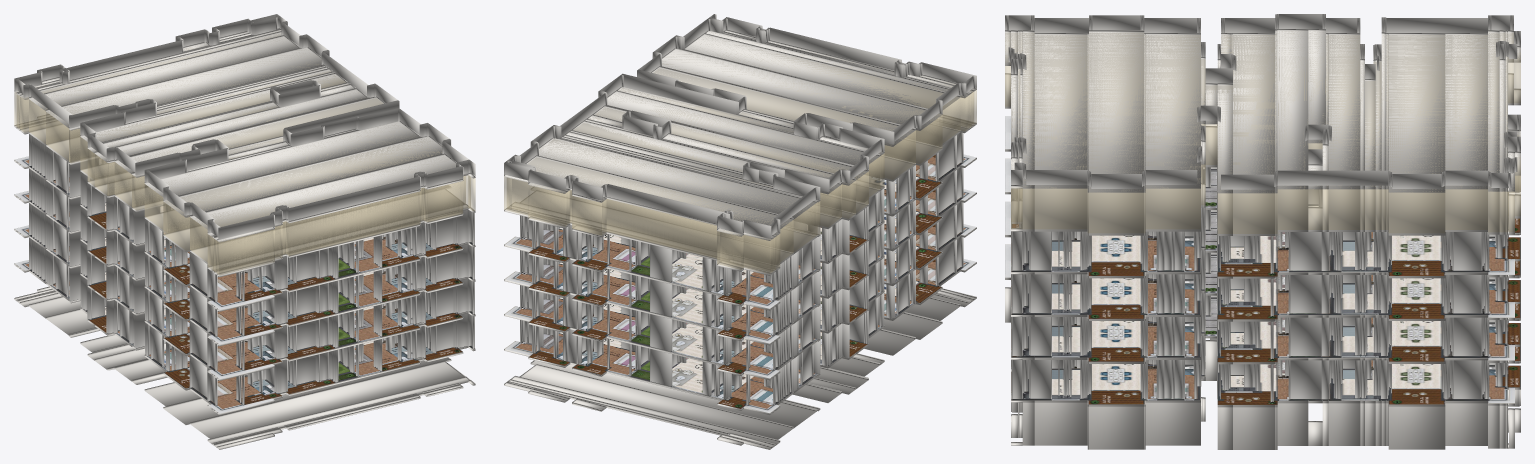
The model's file is SPR_building_conceptual.glb.
The picture shows the model from 3 angles, left to right: view 1: azimuth 30°, elevation 25°; view 2: azimuth 150°, elevation 25°; view 3: azimuth 270°, elevation 25°; orthographic projection. The views are drawn at different scales.
Visible parts, largest first — view 1: L06_Terrace_slab, L05_GHOST_plan_not_in_brochure, L06_Terrace_parapet, L00_Stilt_slab, L05_slab, L04_walls_from_plan, L02_walls_from_plan, L01_walls_from_plan, L03_walls_from_plan, L04_floor_brochure_plan, L03_floor_brochure_plan, L02_floor_brochure_plan (+5 smaller); view 2: L06_Terrace_slab, L05_GHOST_plan_not_in_brochure, L06_Terrace_parapet, L00_Stilt_slab, L05_slab, L04_walls_from_plan, L01_walls_from_plan, L03_walls_from_plan, L02_walls_from_plan, L04_floor_brochure_plan, L03_floor_brochure_plan, L02_floor_brochure_plan (+5 smaller); view 3: L06_Terrace_slab, L05_GHOST_plan_not_in_brochure, L05_slab, L00_Stilt_slab, L06_Terrace_parapet, L04_walls_from_plan, L03_walls_from_plan, L01_walls_from_plan, L02_walls_from_plan, L04_floor_brochure_plan, L02_floor_brochure_plan, L03_floor_brochure_plan (+5 smaller).
Part boxes in pixels (left/top/right/bottom): L06_Terrace_slab: left=14, top=28, right=475, bottom=242; L05_GHOST_plan_not_in_brochure: left=14, top=34, right=475, bottom=275; L06_Terrace_parapet: left=14, top=14, right=475, bottom=239; L00_Stilt_slab: left=14, top=286, right=475, bottom=449; L05_slab: left=14, top=114, right=475, bottom=276; L04_walls_from_plan: left=29, top=134, right=474, bottom=302; L02_walls_from_plan: left=29, top=203, right=474, bottom=371; L01_walls_from_plan: left=29, top=237, right=474, bottom=405; L03_walls_from_plan: left=29, top=168, right=474, bottom=336; L04_floor_brochure_plan: left=14, top=156, right=474, bottom=309; L03_floor_brochure_plan: left=15, top=191, right=475, bottom=344; L02_floor_brochure_plan: left=14, top=225, right=475, bottom=378; L06_Terrace_slab: left=504, top=30, right=976, bottom=240; L05_GHOST_plan_not_in_brochure: left=504, top=36, right=976, bottom=273; L06_Terrace_parapet: left=504, top=14, right=976, bottom=238; L00_Stilt_slab: left=504, top=288, right=976, bottom=449; L05_slab: left=504, top=115, right=976, bottom=275; L04_walls_from_plan: left=520, top=132, right=963, bottom=300; L01_walls_from_plan: left=520, top=236, right=963, bottom=405; L03_walls_from_plan: left=520, top=167, right=963, bottom=335; L02_walls_from_plan: left=520, top=202, right=963, bottom=370; L04_floor_brochure_plan: left=504, top=154, right=976, bottom=308; L03_floor_brochure_plan: left=504, top=189, right=976, bottom=343; L02_floor_brochure_plan: left=504, top=224, right=976, bottom=378; L06_Terrace_slab: left=1005, top=29, right=1520, bottom=193; L05_GHOST_plan_not_in_brochure: left=1005, top=31, right=1520, bottom=233; L05_slab: left=1005, top=73, right=1520, bottom=235; L00_Stilt_slab: left=1005, top=287, right=1520, bottom=449; L06_Terrace_parapet: left=1005, top=14, right=1520, bottom=189; L04_walls_from_plan: left=1011, top=124, right=1508, bottom=273; L03_walls_from_plan: left=1011, top=210, right=1508, bottom=316; L01_walls_from_plan: left=1011, top=295, right=1508, bottom=401; L02_walls_from_plan: left=1011, top=252, right=1508, bottom=358; L04_floor_brochure_plan: left=1005, top=116, right=1520, bottom=276; L02_floor_brochure_plan: left=1005, top=201, right=1520, bottom=362; L03_floor_brochure_plan: left=1005, top=158, right=1520, bottom=319.
Size of the model in its own units: 24.76 by 19.51 by 33.3.
Materials: 6 (1 with a texture image).
